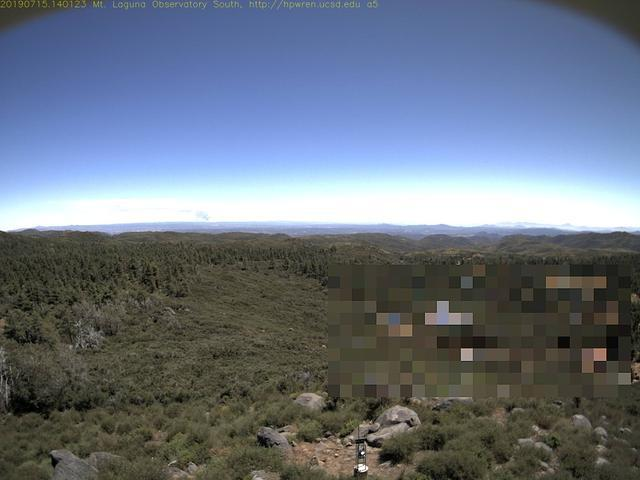smoke: (178, 202, 216, 226)
